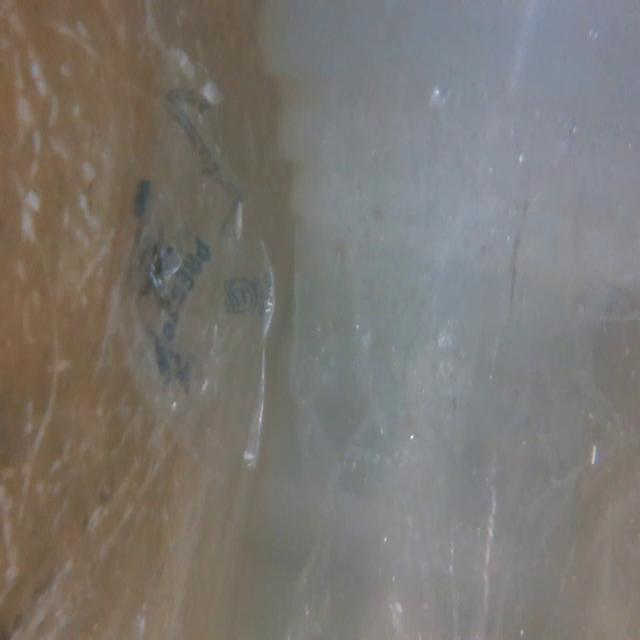plastic bags: (287, 37, 640, 640), (85, 32, 279, 494)
